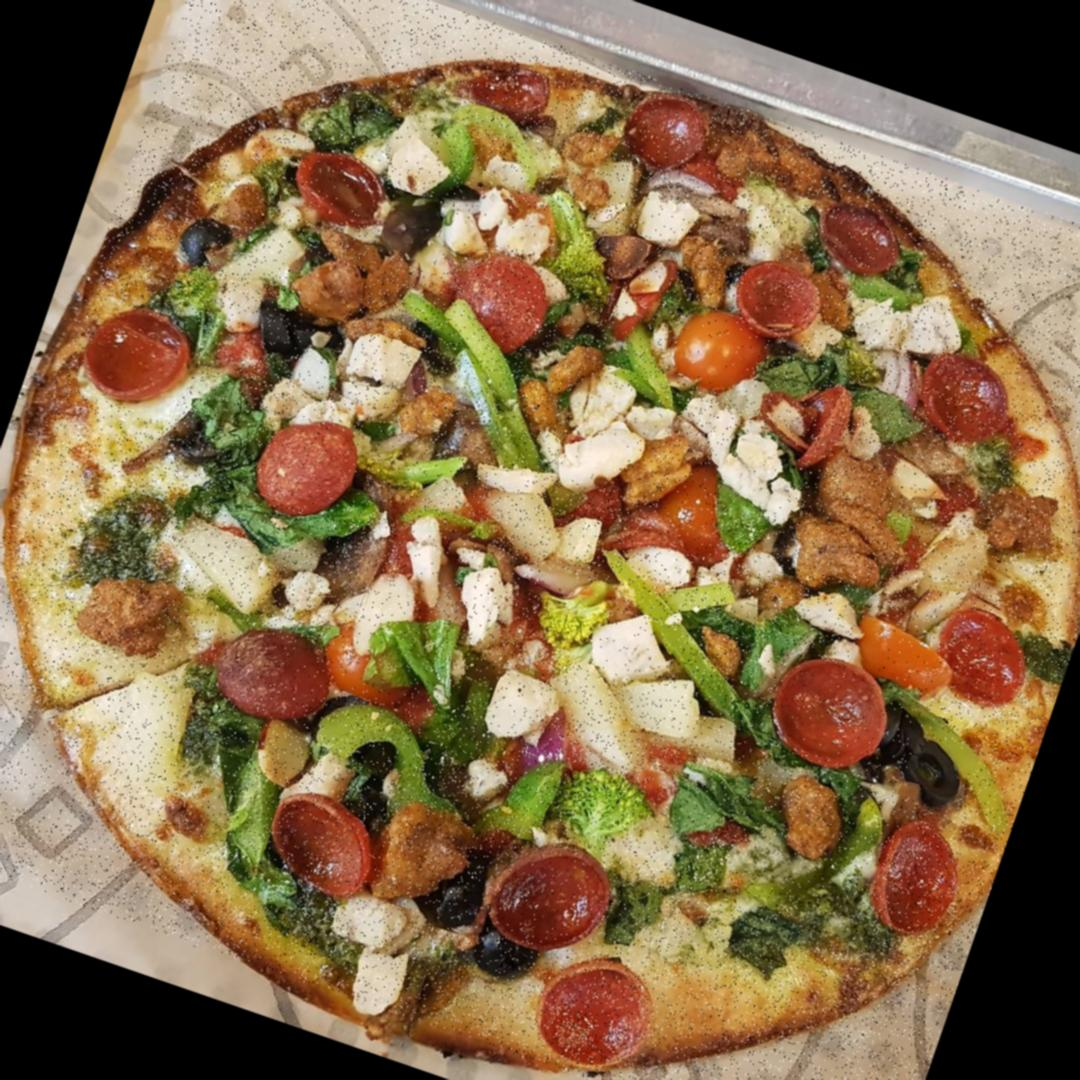Broccoli: (78, 489, 187, 602), (548, 760, 665, 864), (527, 570, 618, 666), (360, 433, 467, 504)
Chicken: (554, 378, 670, 501), (372, 802, 482, 924), (843, 280, 964, 364), (766, 774, 862, 872), (701, 421, 801, 515), (337, 565, 426, 662), (482, 664, 570, 752), (588, 607, 681, 689), (394, 516, 467, 608), (449, 565, 524, 646), (290, 252, 371, 326), (344, 326, 426, 396), (472, 193, 557, 258), (384, 132, 454, 204), (340, 303, 430, 359), (667, 384, 744, 448), (359, 248, 416, 317), (622, 540, 690, 592), (436, 206, 493, 258), (636, 194, 690, 248)
Olives: (462, 910, 558, 990), (418, 849, 501, 941), (898, 734, 976, 814), (378, 189, 450, 266), (400, 322, 468, 382), (880, 708, 934, 783), (174, 214, 241, 272), (248, 296, 308, 359), (285, 314, 345, 363), (870, 703, 909, 758)
Pepperoni: (533, 949, 668, 1080), (74, 300, 202, 424), (763, 653, 893, 773), (256, 790, 389, 906), (492, 837, 614, 958), (208, 620, 344, 728), (254, 414, 374, 526), (912, 345, 1027, 451), (919, 600, 1036, 704), (866, 818, 964, 939), (446, 250, 556, 356), (284, 144, 397, 244), (805, 196, 909, 288), (620, 85, 714, 179), (733, 253, 820, 338), (783, 375, 857, 474), (470, 60, 559, 126)
Peppers: (861, 681, 1045, 832), (744, 772, 898, 942), (302, 694, 486, 825)
Pizza: (0, 0, 1080, 1080)
Tomatoes: (842, 612, 962, 713), (648, 458, 752, 564), (311, 620, 426, 713), (666, 302, 766, 404), (610, 248, 677, 348)
